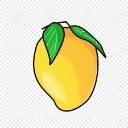mango: (34, 21, 107, 112)
